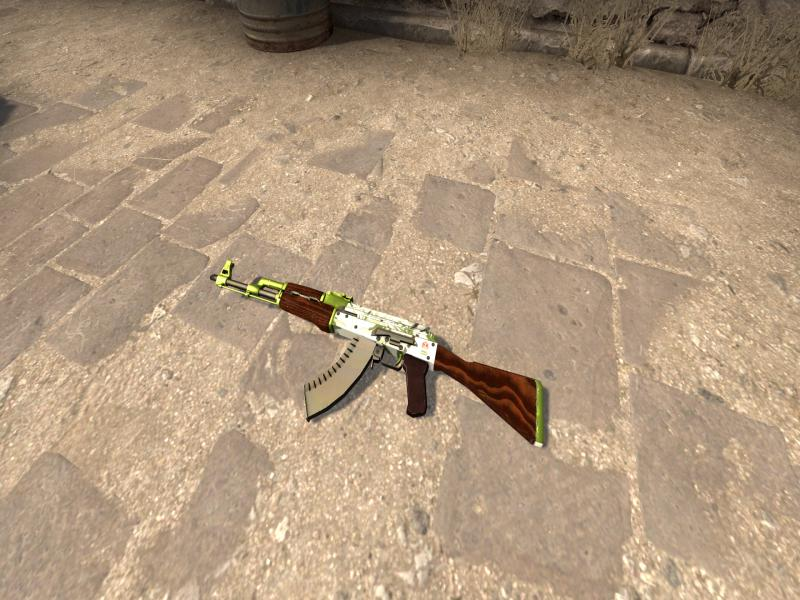AK47: (213, 259, 543, 443)
